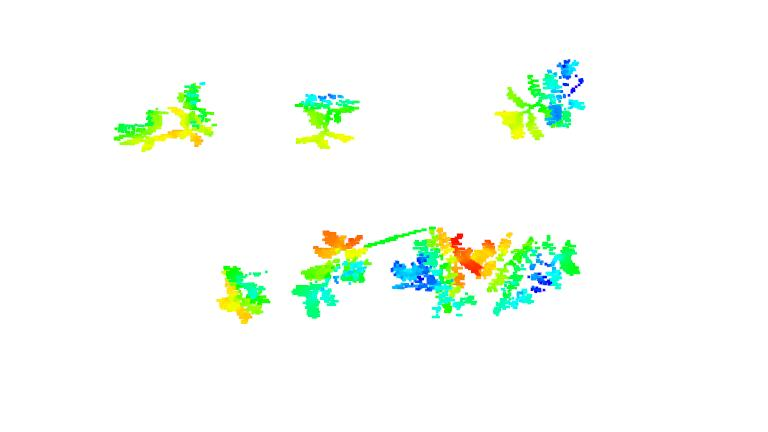chickpea: (471, 232, 583, 318), (494, 56, 586, 142), (388, 228, 472, 318), (290, 230, 373, 319), (293, 91, 363, 150), (166, 81, 219, 149), (213, 265, 272, 324), (113, 107, 166, 152)
